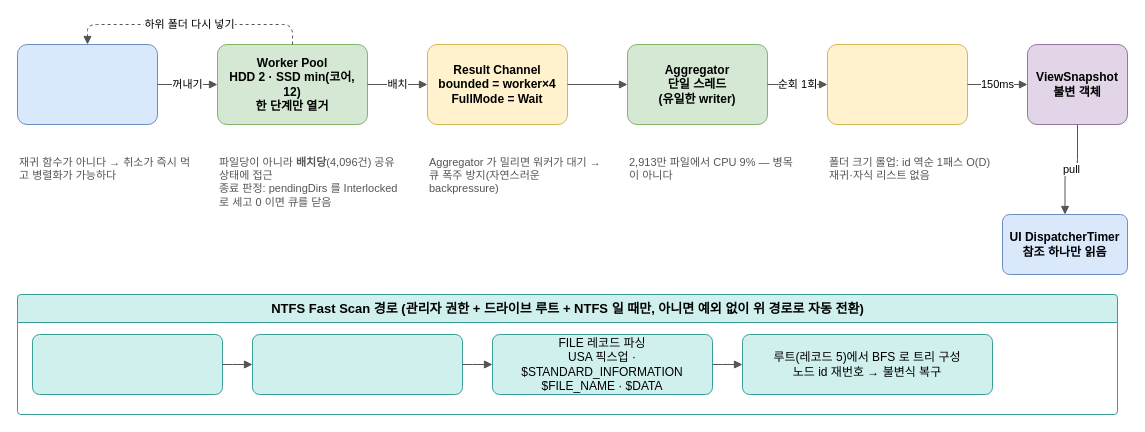
This 1145x432 diagram has some shape labels left out. Each missing label, with the centre of its shape:
"$MFT 런리스트 디코딩 4MB 단위 순차 읽기" goes at point (357, 364).
"\\.\C: 볼륨 핸들 부트 섹터(BPB) 파싱" goes at point (127, 364).
"Directory Queue Channel<DirWorkItem> (unbounded)" goes at point (87, 84).
"NodeStore + 확장자 집계 + Top-K 힙" goes at point (897, 84).
